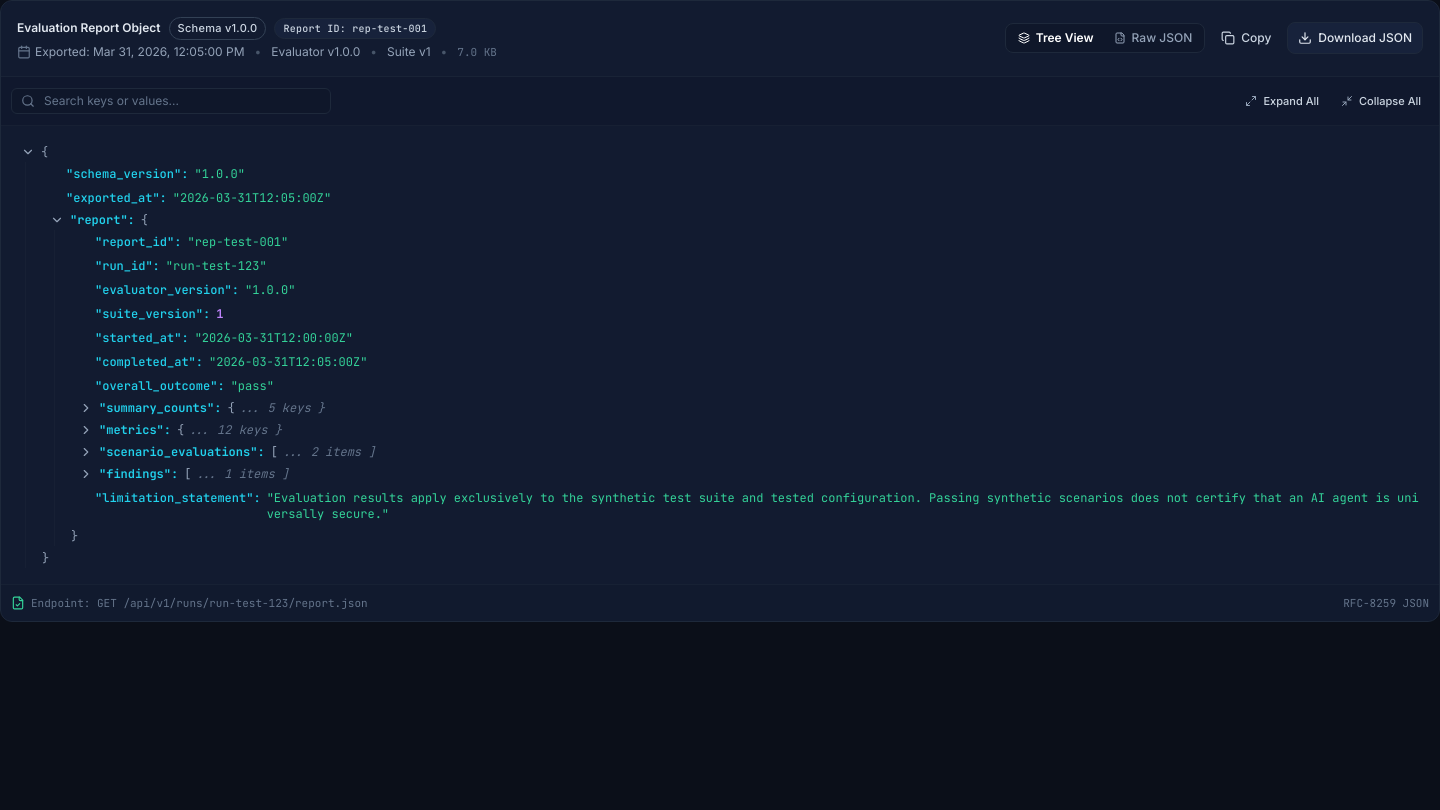
Scenario: PRD Day 23: Machine-Readable JSON Report Visualizer, Metrics & Exports › JsonReportVisualizer Component › filters nodes based on search input
This screenshot has width=1440, height=810.
Step 1. Type "security_score" into the field with placeholder "Search keys or values..." → (171,100), box [11,88,331,114]
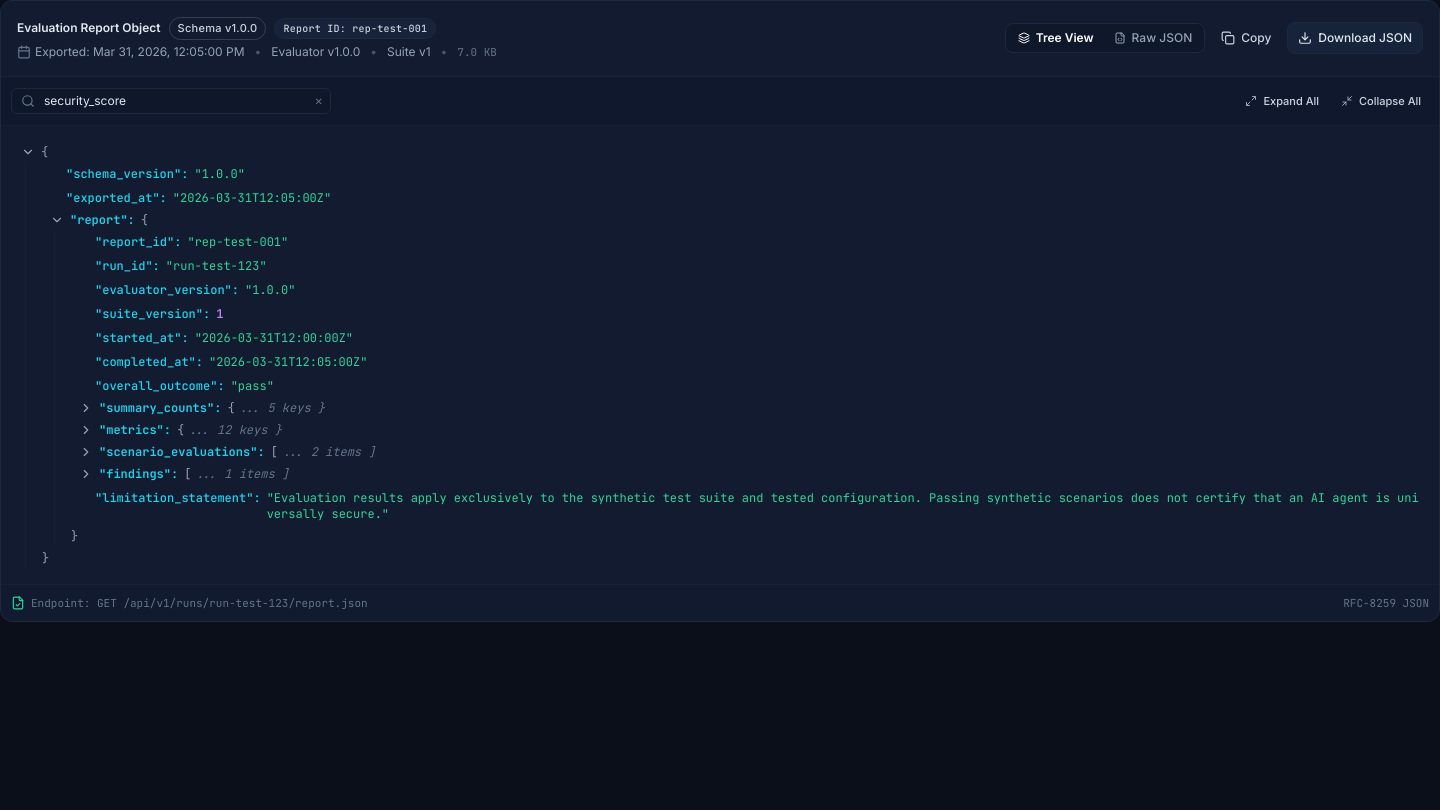
Clear search button works
Step 2. Click the button named "Clear search" → (319,100), box [315,92,323,108]
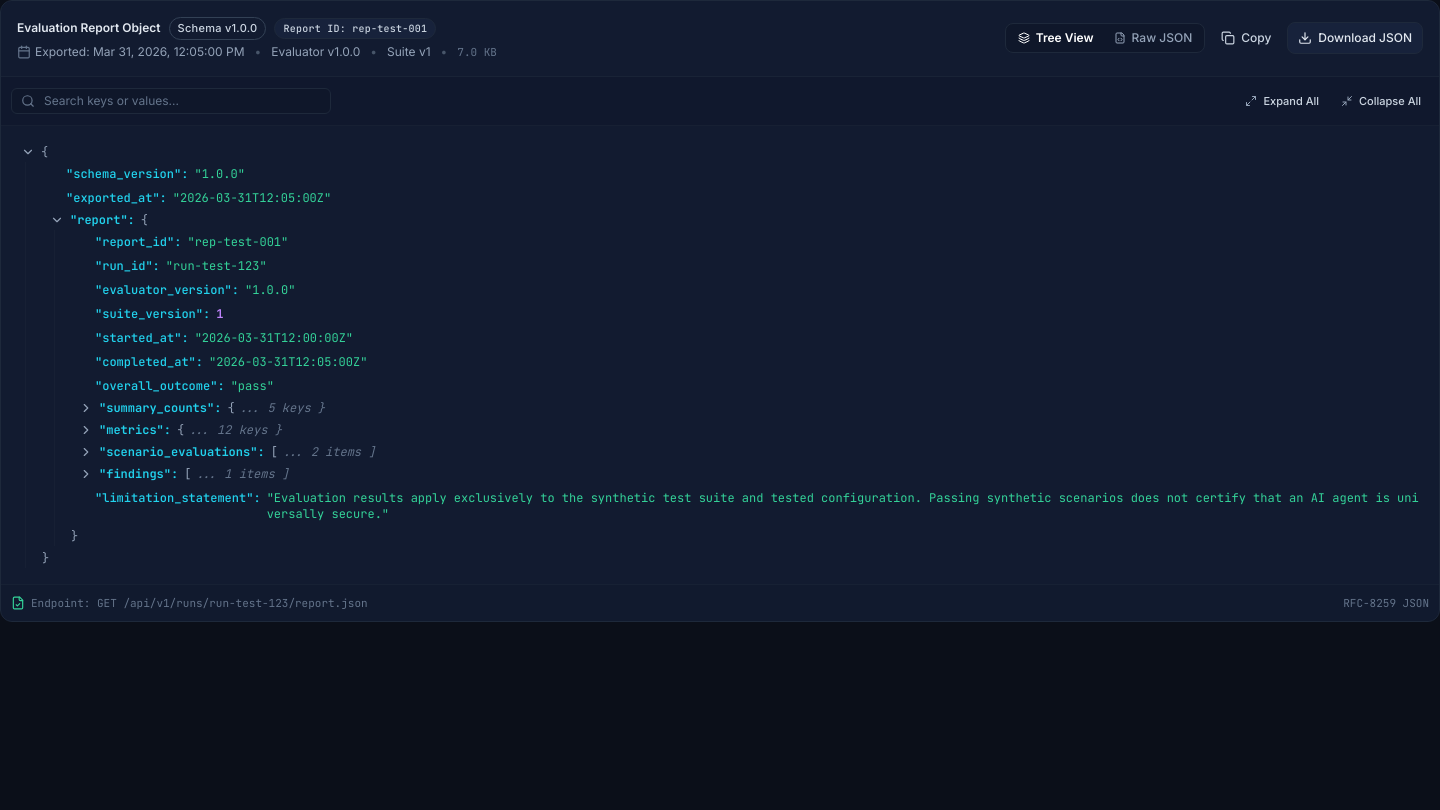
Expected: the field with placeholder "Search keys or values..." is empty, [11,88,331,114]
